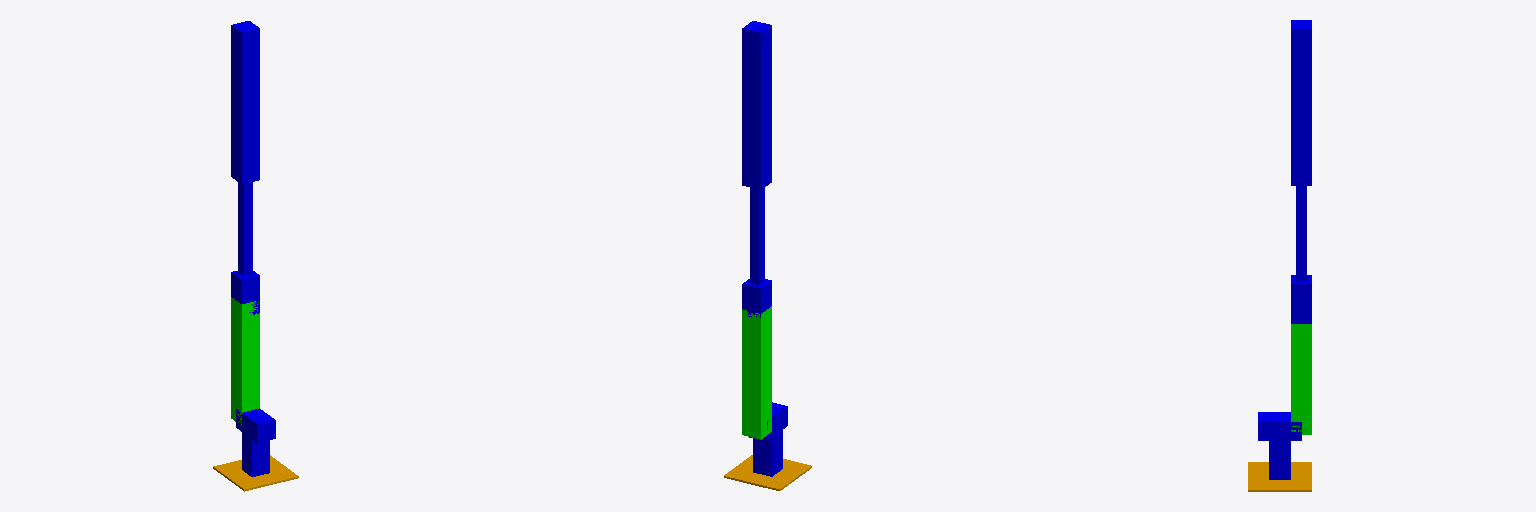
robot.urdf — myfirst:
<?xml version="1.0"?>
<robot name="myfirst">

    <link name="base_link">
        <visual>
            <geometry>
                <box size="0.06 0.06 0.002"/>
            </geometry>
            <origin xyz="0 0 -0.021" rpy="0 0 0"/>
         </visual>
    </link>

    <link name="motor1">
        <visual>
            <geometry>
                <box size="0.02 0.02 0.04"/>
            </geometry>
            <material name="blue">
                <color rgba="0 0 1 1"/>
            </material>
            <origin xyz="0 0 0" rpy="0 0 0"/>
         </visual>
    </link>

    <link name="motor2">
        <visual>
            <geometry>
                <box size="0.02 0.04 0.02"/>
            </geometry>
            <material name="blue"/>
            <origin xyz="0 0 0" rpy="0 0 0"/>
         </visual>
    </link>
    
    <link name="hand_extendension">
        <visual>
            <geometry>
                <box size="0.02 0.02 0.128"/>
            </geometry>
            <material name="green">
                <color rgba="0 1 0 1"/>
            </material>
            <origin xyz="0 0 0.06" rpy="0 0 0"/>
         </visual>
    </link>
    <link name="motor3">
        <visual>
            <geometry>
                <box size="0.02 0.02 0.04"/>
            </geometry>
            <material name="yellow">
                <color rgba="0 0 1 1"/>
            </material>
            <origin xyz="0 0 0.01" rpy="0 0 0"/>
         </visual>
    </link>

    <link name="pipe">
        <visual>
            <geometry>
                <box size="0.01 0.01 0.1"/>
            </geometry>
            <material name="yellow">
                <color rgba="0 0 1 1"/>
            </material>
            <origin xyz="0 0 0" rpy="0 0 0"/>
         </visual>
    </link>
    <link name="motor4">
        <visual>
            <geometry>
                <box size="0.02 0.02 0.16"/>
            </geometry>
            <material name="yellow">
                <color rgba="0 0 1 1"/>
            </material>
            <origin xyz="0 0 0.08" rpy="0 0 0.0"/>
         </visual>
    </link>
    <joint name="joint1" type="fixed">
        <parent link="base_link"/>
        <child link="motor1"/>
        <origin xyz="0 0 0" rpy="0 0 0"/>
    </joint>

    <joint name="joint2" type="revolute">
        <parent link="motor1"/>
        <child link="motor2"/>
        <origin xyz="0 0 0.03" rpy="0 0 0"/>
        <axis xyz="0 0 1"/>
        <limit lower="-1.57" upper="1.57" effort="100" velocity="100"/>
    </joint>

    <joint name="joint3" type="revolute">
        <parent link="motor2"/>
        <child link="hand_extendension"/>
        <origin xyz="0 0.02 0" rpy="0 0 0"/>
        <axis xyz="1 0 0"/>
        <limit lower="-1.57" upper="1.57" effort="100" velocity="100"/>
    </joint>

    <joint name="joint4" type="revolute">
        <parent link="hand_extendension"/>
        <child link="motor3"/>
        <origin xyz="0 0 0.12" rpy="0 0 0"/>
        <axis xyz="1 0 0" rpy="0 0 0"/>
        <limit lower="-1.57" upper="1.57" effort="100" velocity="100"/>
    </joint>
    <joint name="pipe_joint" type="fixed">
        <parent link="motor3"/>
        <child link="pipe"/>
        <origin xyz="0 0 0.08" rpy="0 0 0"/>
    </joint>
    <joint name="joint5" type="revolute">
        <parent link="pipe"/>
        <child link="motor4"/>
        <origin xyz="0 0 0.05" rpy="0 0 0"/>
        <axis xyz="1 0 0"/>
        <limit lower="-1.57" upper="1.57" effort="100" velocity="100"/>
    </joint>
    <ros2_control name="ServoArm" type="system">
        <hardware>
            <plugin>servo_driver</plugin>
        </hardware>

        <joint name="joint2">
            <param name="servo_channel">0</param>
        </joint>

        <joint name="joint3">
            <param name="servo_channel">1</param>
        </joint>
        <joint name="joint4">
            <param name="servo_channel">2</param>
        </joint>
        <joint name="joint5">
            <param name="servo_channel">3</param>
        </joint>
    </ros2_control>

</robot>

--- What the picture shows (computed from the rendered views, not written in the file) ---
Views: 3 orthographic renders of the robot side by side, from view 1: azimuth 30°, elevation 25°; view 2: azimuth 150°, elevation 25°; view 3: azimuth 270°, elevation 25°.
Robot: myfirst — 7 links, 6 joints (4 revolute, 2 fixed); root link base_link; default pose: all joints at 0.
Visible links, largest first — view 1: motor4, hand_extendension, pipe, base_link, motor2, motor1, motor3; view 2: motor4, hand_extendension, pipe, base_link, motor1, motor3; view 3: motor4, hand_extendension, base_link, motor2, pipe, motor3, motor1.
Boxes of the visible links, left/top/right/bottom form: motor4: left=231, top=21, right=259, bottom=184; hand_extendension: left=231, top=297, right=259, bottom=425; pipe: left=238, top=182, right=252, bottom=276; base_link: left=213, top=455, right=298, bottom=491; motor2: left=236, top=408, right=275, bottom=442; motor1: left=242, top=432, right=269, bottom=476; motor3: left=231, top=271, right=259, bottom=314; motor4: left=742, top=21, right=771, bottom=189; hand_extendension: left=742, top=306, right=771, bottom=439; pipe: left=750, top=188, right=764, bottom=284; base_link: left=724, top=455, right=811, bottom=490; motor1: left=753, top=430, right=782, bottom=476; motor3: left=742, top=279, right=771, bottom=317; motor4: left=1291, top=20, right=1311, bottom=185; hand_extendension: left=1291, top=324, right=1311, bottom=434; base_link: left=1248, top=462, right=1311, bottom=491; motor2: left=1258, top=412, right=1301, bottom=440; pipe: left=1296, top=186, right=1306, bottom=281; motor3: left=1291, top=275, right=1311, bottom=323; motor1: left=1269, top=441, right=1290, bottom=479.
Size in the robot's own frame: 0.06 by 0.06 by 0.462 metres.
Geometry: primitives only (box / cylinder / sphere), no mesh files.
